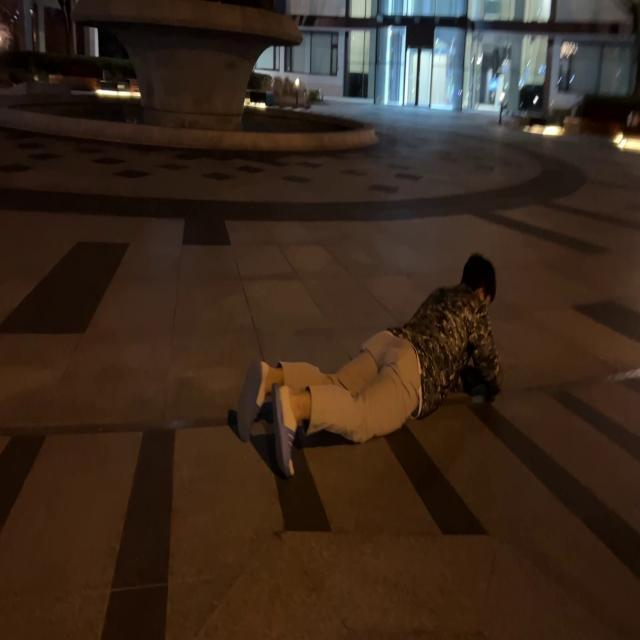Fall: (238, 254, 501, 476)
